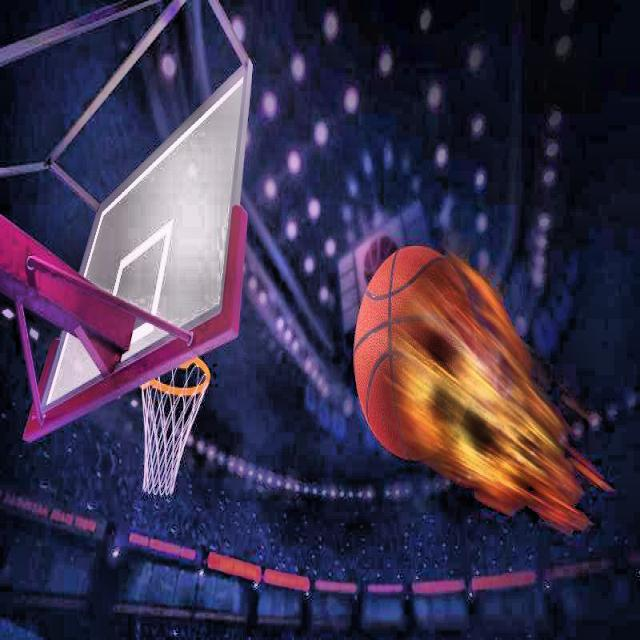rim: (132, 351, 211, 498)
